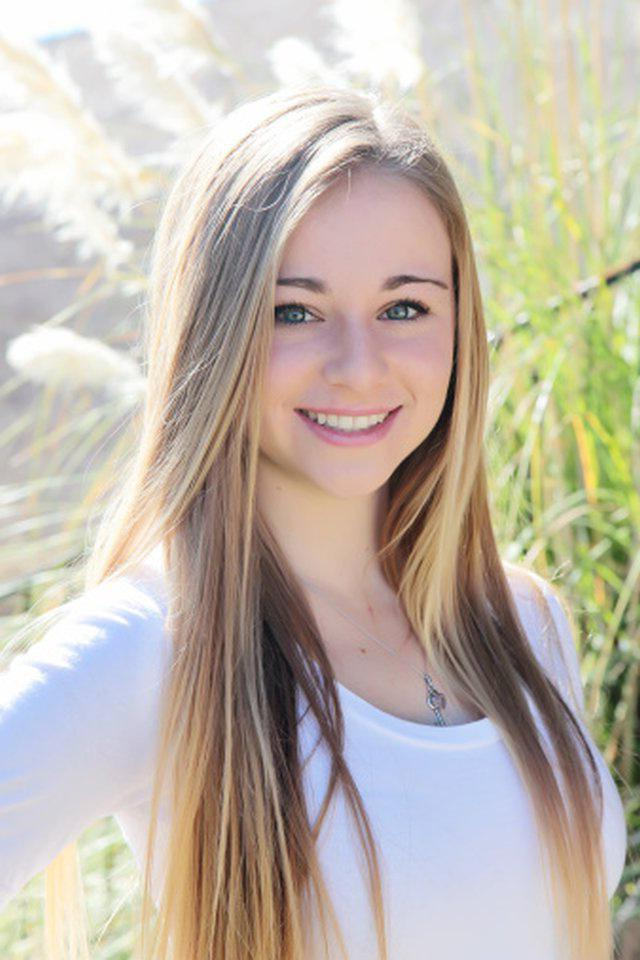face: (243, 167, 454, 500)
